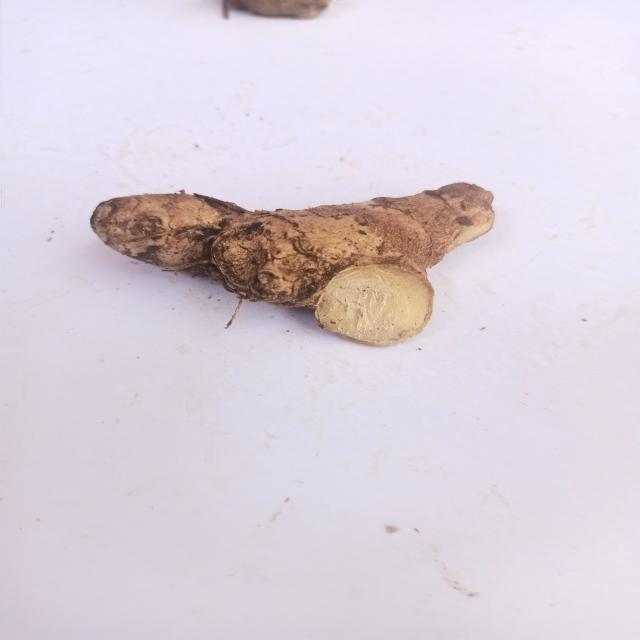Ginger: (82, 168, 504, 356)
